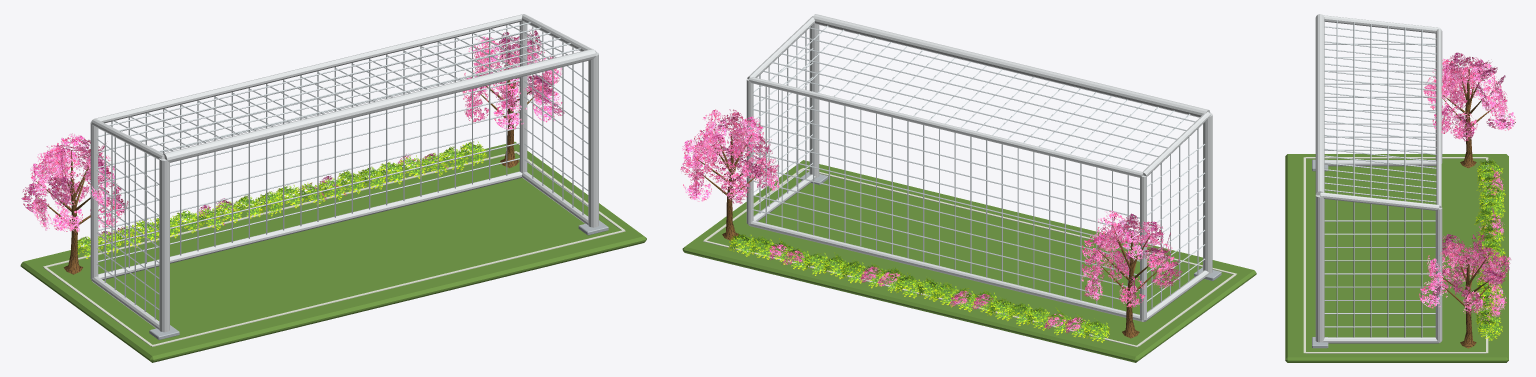
The model's file is P08_goal_v2.glb.
3 renders of one model, left to right at view 1: azimuth 30°, elevation 25°; view 2: azimuth 150°, elevation 25°; view 3: azimuth 270°, elevation 25°, orthographic. The views are drawn at different scales.
Parts seen in each view (by area): view 1: GAME_V2_Grass_turf, GAME_Pale nylon rope, GAME_Powder coated off-white, GAME_V2_Blossom_cutout, GAME_V2_Leaf_cutout, GAME_V2_Chalk_line, GAME_V2_Bark, GAME_Footplate; view 2: GAME_V2_Grass_turf, GAME_Pale nylon rope, GAME_Powder coated off-white, GAME_V2_Blossom_cutout, GAME_V2_Leaf_cutout, GAME_V2_Chalk_line, GAME_V2_Bark; view 3: GAME_V2_Grass_turf, GAME_Pale nylon rope, GAME_V2_Blossom_cutout, GAME_Powder coated off-white, GAME_V2_Leaf_cutout, GAME_V2_Bark, GAME_V2_Chalk_line, GAME_Footplate.
Boxes of the visible parts, x1,y1,x2,y2 form: GAME_V2_Grass_turf: [20, 141, 646, 362]; GAME_Pale nylon rope: [96, 22, 588, 319]; GAME_Powder coated off-white: [90, 14, 598, 332]; GAME_V2_Blossom_cutout: [21, 29, 564, 242]; GAME_V2_Leaf_cutout: [70, 141, 487, 258]; GAME_V2_Chalk_line: [43, 151, 625, 346]; GAME_V2_Bark: [36, 46, 534, 274]; GAME_Footplate: [149, 220, 608, 339]; GAME_V2_Grass_turf: [682, 160, 1256, 362]; GAME_Pale nylon rope: [752, 25, 1204, 309]; GAME_Powder coated off-white: [746, 14, 1212, 321]; GAME_V2_Blossom_cutout: [680, 109, 1182, 333]; GAME_V2_Leaf_cutout: [728, 234, 1109, 342]; GAME_V2_Chalk_line: [703, 168, 1236, 347]; GAME_V2_Bark: [695, 129, 1162, 338]; GAME_V2_Grass_turf: [1285, 154, 1508, 362]; GAME_Pale nylon rope: [1324, 20, 1436, 337]; GAME_V2_Blossom_cutout: [1419, 52, 1515, 324]; GAME_Powder coated off-white: [1315, 14, 1442, 343]; GAME_V2_Leaf_cutout: [1474, 158, 1505, 340]; GAME_V2_Bark: [1436, 65, 1497, 348]; GAME_V2_Chalk_line: [1303, 157, 1488, 353]; GAME_Footplate: [1312, 159, 1328, 348].
Size of the model in its own units: 7.52 by 2.5 by 3.38.
Materials: 8 (3 with a texture image).
